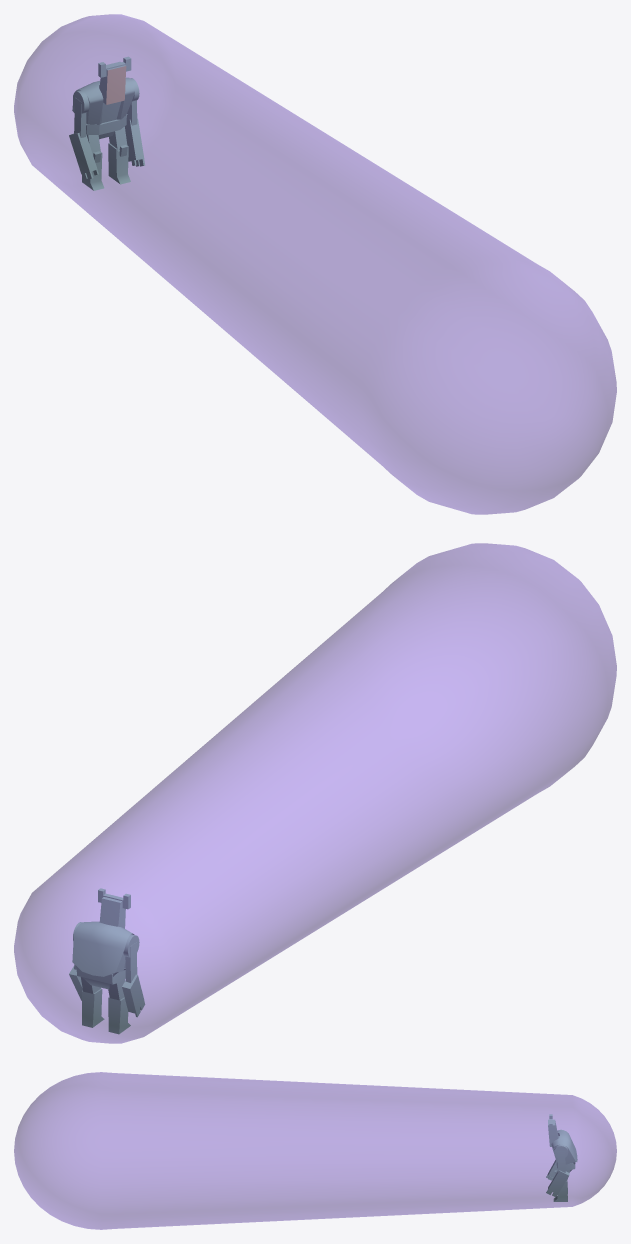
File: han.fbx
3 renders of one model, top to bottom at view 1: azimuth 30°, elevation 25°; view 2: azimuth 150°, elevation 25°; view 3: azimuth 270°, elevation 25°, orthographic. The views are drawn at different scales.
Parts seen in each view (by area): view 1: vision1, han_geo; view 2: vision1, han_geo; view 3: vision1, han_geo.
Part boxes in pixels (x1,y1,x2,y2): vision1: (14, 14, 616, 514); han_geo: (69, 56, 145, 190); vision1: (14, 543, 616, 1043); han_geo: (69, 888, 145, 1034); vision1: (14, 1072, 616, 1229); han_geo: (546, 1114, 577, 1201).
Size of the model in its own units: 22.48 by 22.48 by 85.24.
